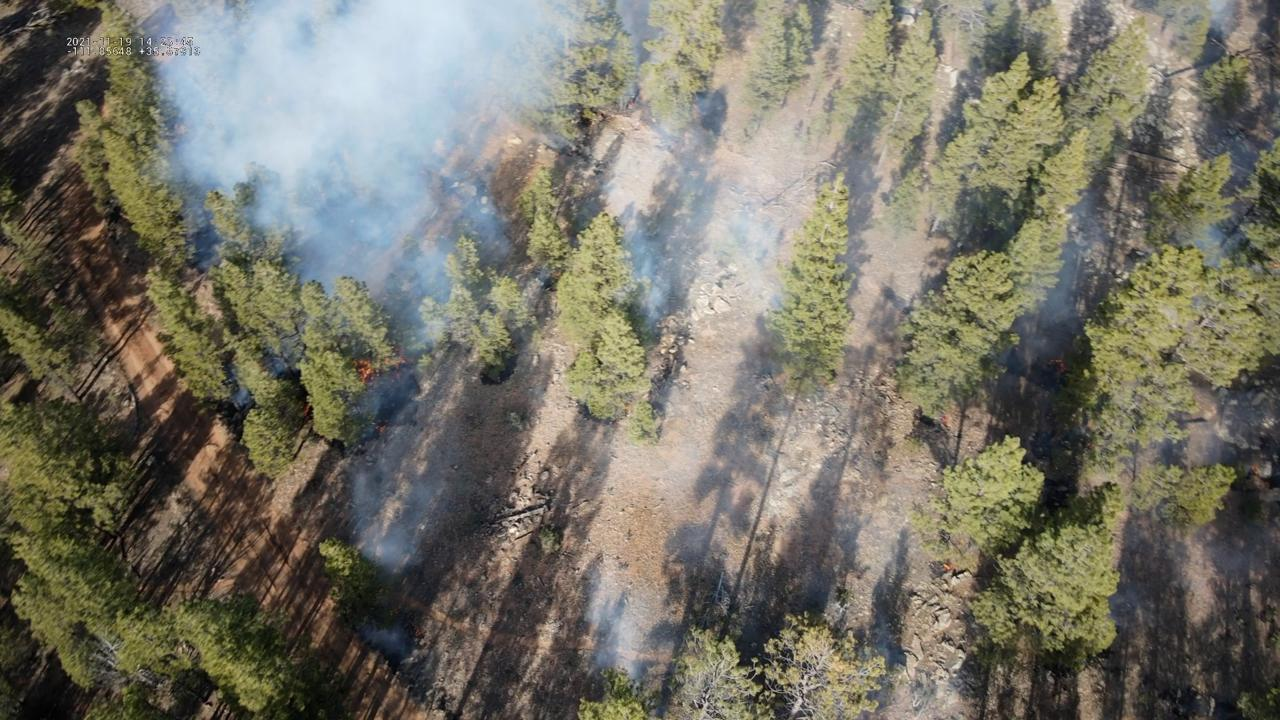fire: (384, 346, 408, 383), (351, 356, 373, 384), (1048, 358, 1065, 374), (1251, 464, 1261, 475), (303, 403, 310, 418), (939, 414, 950, 423), (375, 426, 386, 434), (942, 563, 951, 571), (1271, 262, 1280, 269)
smoke: (137, 0, 802, 415), (987, 185, 1104, 369), (348, 440, 441, 578), (576, 567, 645, 682), (1181, 226, 1233, 269), (356, 625, 409, 657), (1201, 0, 1233, 36)
